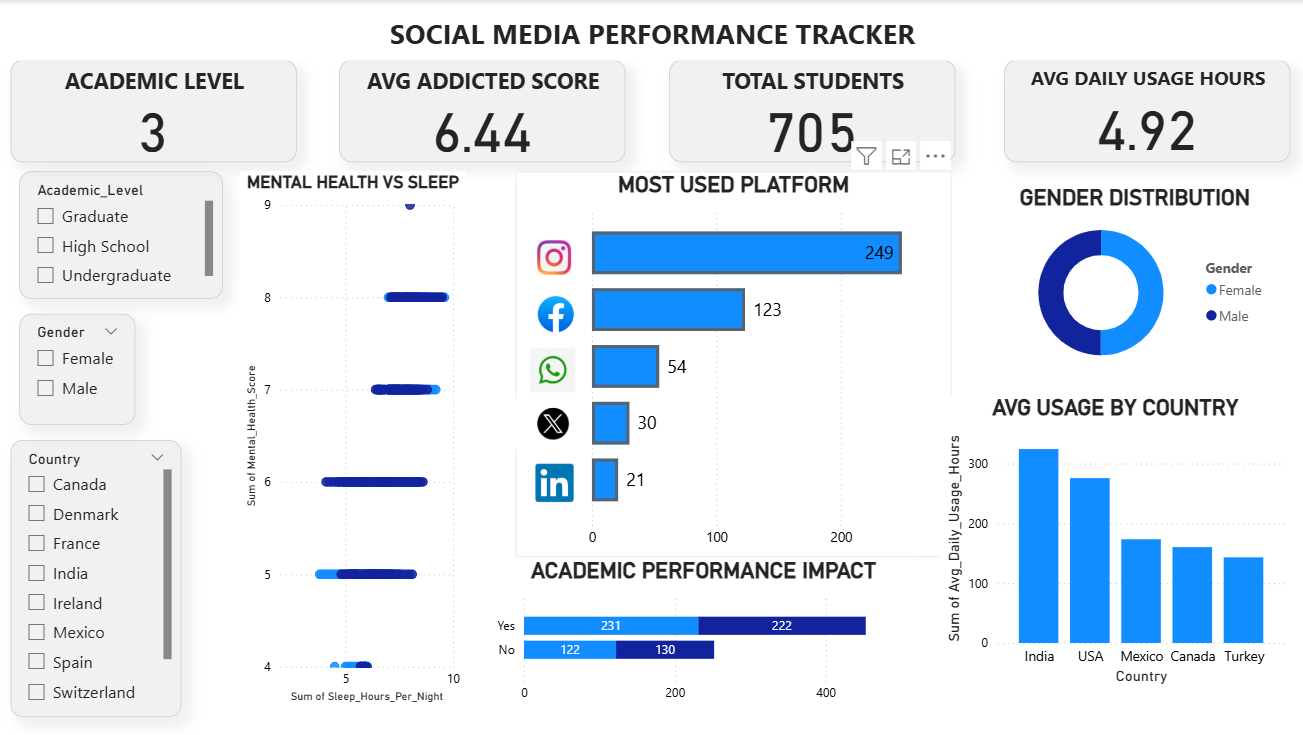

The page's visual inventory and layout, read from the dashboard file:
{"tool":"powerbi","page":{"name":"Page 1","canvas":[1280,720],"ordinal":0},"visuals":[{"type":"card","title":"ACADEMIC LEVEL","fields":{"Values":["Count(Students_Social_Media_Addiction_Clean.Academic_Level)"]},"box":[12.2,58.7,280,100.3],"z":0},{"type":"card","title":"AVG ADDICTED SCORE","fields":{"Values":["Avg(Students_Social_Media_Addiction_Clean.Addicted_Score)"]},"box":[333.8,58.7,280,100.3],"z":1000},{"type":"card","title":"TOTAL STUDENTS","fields":{"Values":["Count(Students_Social_Media_Addiction_Clean.Student_ID)"]},"box":[656.7,58.7,280,100.3],"z":2000},{"type":"card","title":"AVG DAILY USAGE HOURS","fields":{"Values":["Avg(Students_Social_Media_Addiction_Clean.Avg_Daily_Usage_Hours)"]},"box":[984.4,58.7,280,100.3],"z":3000},{"type":"barChart","title":"MOST USED PLATFORM","fields":{"Category":["Students_Social_Media_Addiction_Clean.Most_Used_Platform"],"Y":["CountNonNull(Students_Social_Media_Addiction_Clean.Student_ID)"]},"box":[506.3,167.5,426.8,377.9],"z":4000},{"type":"image","box":[516,448.8,57.5,47.7],"z":5000},{"type":"image","box":[505,390.1,75.8,48.9],"z":6000},{"type":"image","box":[518.5,284.9,53.8,45.2],"z":7000},{"type":"image","box":[511.1,335.1,63.6,53.8],"z":8000},{"type":"image","box":[516,229.9,56.3,44],"z":9000},{"type":"donutChart","title":"GENDER DISTRIBUTION","fields":{"Category":["Students_Social_Media_Addiction_Clean.Gender"],"Y":["CountNonNull(Students_Social_Media_Addiction_Clean.Student_ID)"]},"box":[972.2,181,280,187.1],"z":10000},{"type":"columnChart","title":"AVG USAGE BY COUNTRY","fields":{"Y":["Sum(Students_Social_Media_Addiction_Clean.Avg_Daily_Usage_Hours)"],"Category":["Students_Social_Media_Addiction_Clean.Country"]},"box":[922,386.4,342.4,288.6],"z":11000},{"type":"slicer","fields":{"Values":["Students_Social_Media_Addiction_Clean.Gender"]},"box":[20.8,306.9,113.7,108.8],"z":12000},{"type":"slicer","fields":{"Values":["Students_Social_Media_Addiction_Clean.Country"]},"box":[12.2,430.4,167.5,271.5],"z":13000},{"type":"slicer","fields":{"Values":["Students_Social_Media_Addiction_Clean.Academic_Level"]},"box":[20.8,167.5,199.3,124.7],"z":14000},{"type":"scatterChart","title":"MENTAL HEALTH VS SLEEP","fields":{"Y":["Sum(Students_Social_Media_Addiction_Clean.Mental_Health_Score)"],"X":["Sum(Students_Social_Media_Addiction_Clean.Sleep_Hours_Per_Night)"],"Series":["Students_Social_Media_Addiction_Clean.Gender"],"Category":["Students_Social_Media_Addiction_Clean.Student_ID"]},"box":[237.2,167.5,220.1,524.6],"z":15000},{"type":"barChart","title":"ACADEMIC PERFORMANCE IMPACT","fields":{"Category":["Students_Social_Media_Addiction_Clean.Affects_Academic_Performance"],"Y":["CountNonNull(Students_Social_Media_Addiction_Clean.Affects_Academic_Performance)"],"Series":["Students_Social_Media_Addiction_Clean.Gender"]},"box":[481.8,545.4,417,150.4],"z":16000},{"type":"textbox","box":[0,9.6,1280.3,49.4],"z":17000}]}

Visuals, with their boxes in screenshot pixels (x1, y1, x2, y2), scaled from the page's 1280x720 canvas onto the 1303x735 screenshot:
"ACADEMIC LEVEL" card: x1=12, y1=60, x2=297, y2=162
"AVG ADDICTED SCORE" card: x1=340, y1=60, x2=625, y2=162
"TOTAL STUDENTS" card: x1=669, y1=60, x2=954, y2=162
"AVG DAILY USAGE HOURS" card: x1=1002, y1=60, x2=1287, y2=162
"MOST USED PLATFORM" barChart: x1=515, y1=171, x2=950, y2=557
image: x1=525, y1=458, x2=584, y2=507
image: x1=514, y1=398, x2=591, y2=448
image: x1=528, y1=291, x2=583, y2=337
image: x1=520, y1=342, x2=585, y2=397
image: x1=525, y1=235, x2=583, y2=280
"GENDER DISTRIBUTION" donutChart: x1=990, y1=185, x2=1275, y2=376
"AVG USAGE BY COUNTRY" columnChart: x1=939, y1=394, x2=1287, y2=689
slicer - Students_Social_Media_Addiction_Clean.Gender: x1=21, y1=313, x2=137, y2=424
slicer - Students_Social_Media_Addiction_Clean.Country: x1=12, y1=439, x2=183, y2=717
slicer - Students_Social_Media_Addiction_Clean.Academic_Level: x1=21, y1=171, x2=224, y2=298
"MENTAL HEALTH VS SLEEP" scatterChart: x1=241, y1=171, x2=466, y2=707
"ACADEMIC PERFORMANCE IMPACT" barChart: x1=490, y1=557, x2=915, y2=710
textbox: x1=0, y1=10, x2=1302, y2=60
